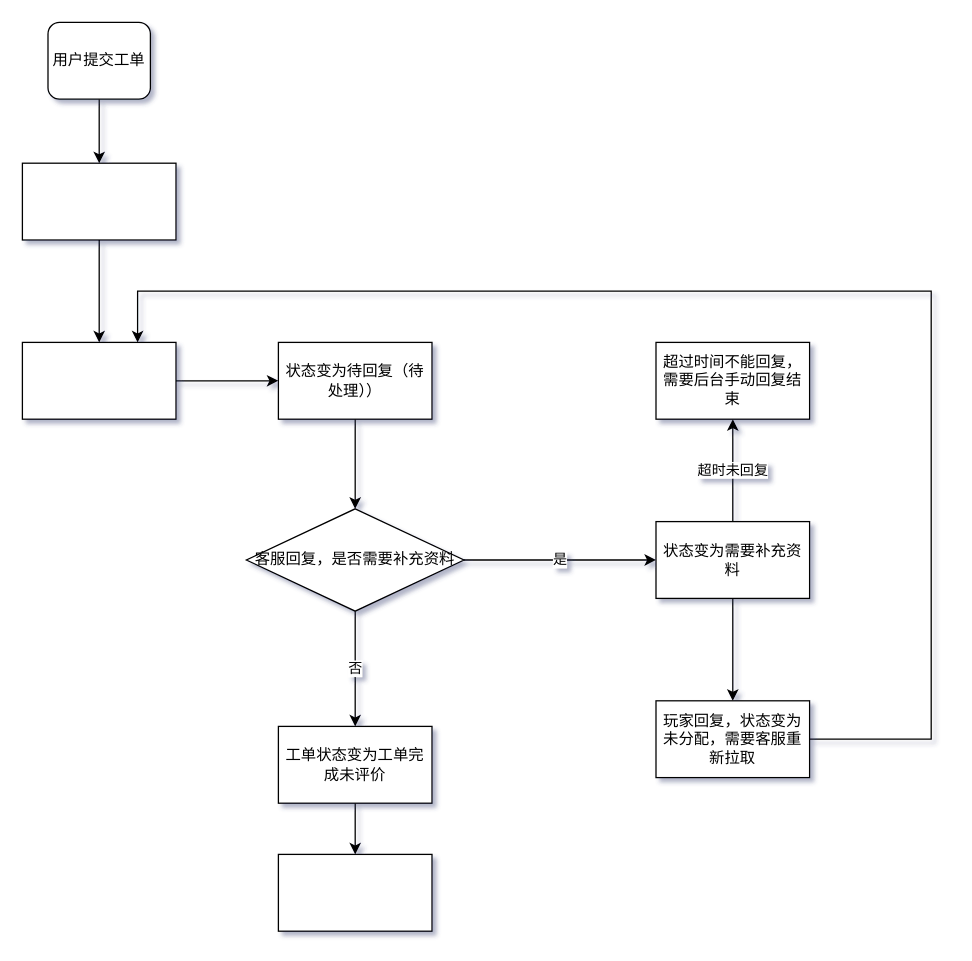
The diagram is 972 pixels wide and 961 high, and some of its shapes have lost their labels. The shapes that lost their labels are listed below. From the top down, each one's centre as x and y in pixels, then its label:
At [98,201]: "工单状态未分配".
At [98,380]: "客服拉取工单".
At [354,892]: "用户评价，状态变为工单完成已评价".
